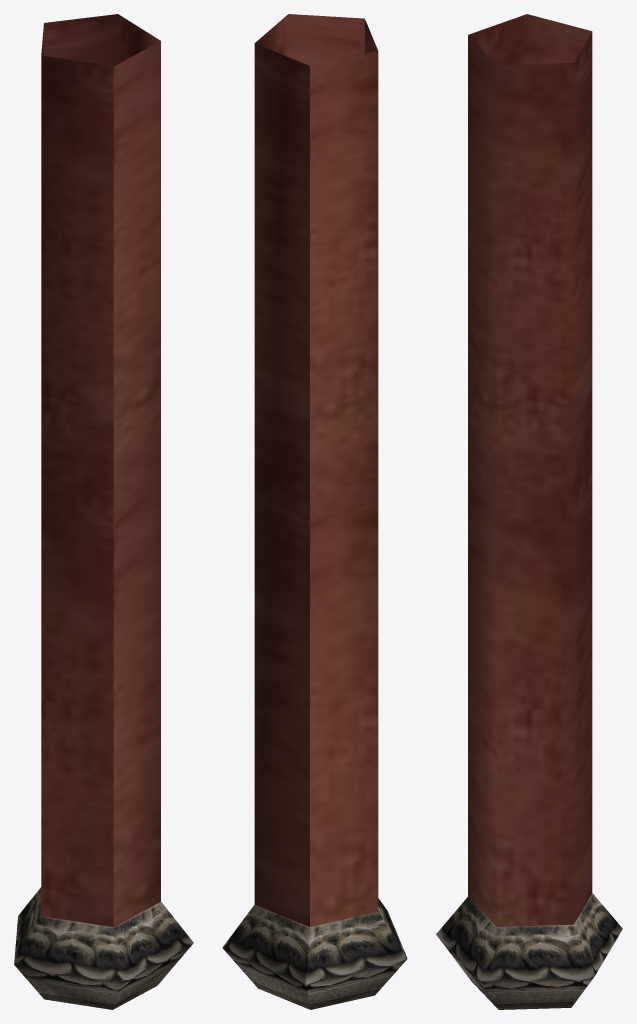
Rendered from SOBF123.obj.
3 renders of one model, left to right at view 1: azimuth 30°, elevation 25°; view 2: azimuth 150°, elevation 25°; view 3: azimuth 270°, elevation 25°, orthographic.
Visible parts, largest first — view 1: SOBF123; view 2: SOBF123; view 3: SOBF123.
Boxes of the visible parts, <box> form: SOBF123: <box>14,14,193,1009</box>; SOBF123: <box>222,14,407,1009</box>; SOBF123: <box>436,14,622,1009</box>.
Size of the model in its own units: 21.89 by 126 by 22.51.
